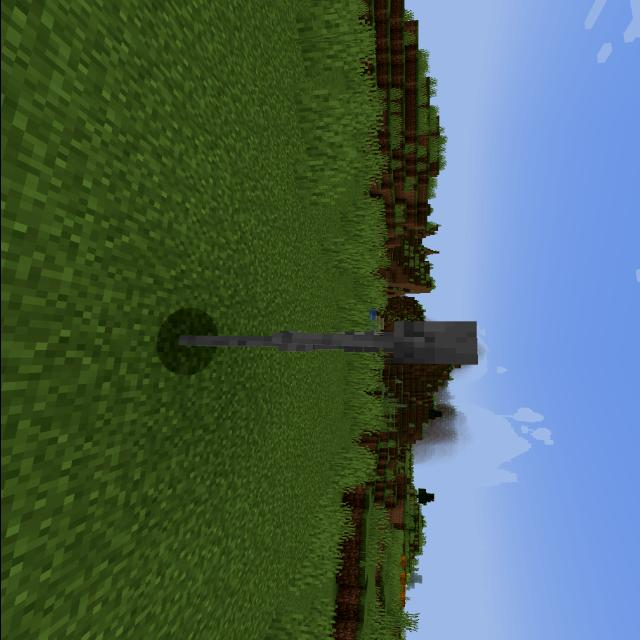Skeleton: (137, 308, 488, 372)
